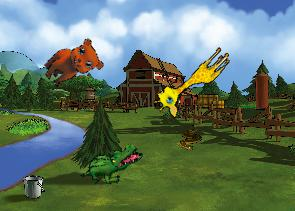bear: (38, 31, 108, 99)
crocodile: (78, 130, 145, 198)
giraffe: (149, 37, 234, 122)
